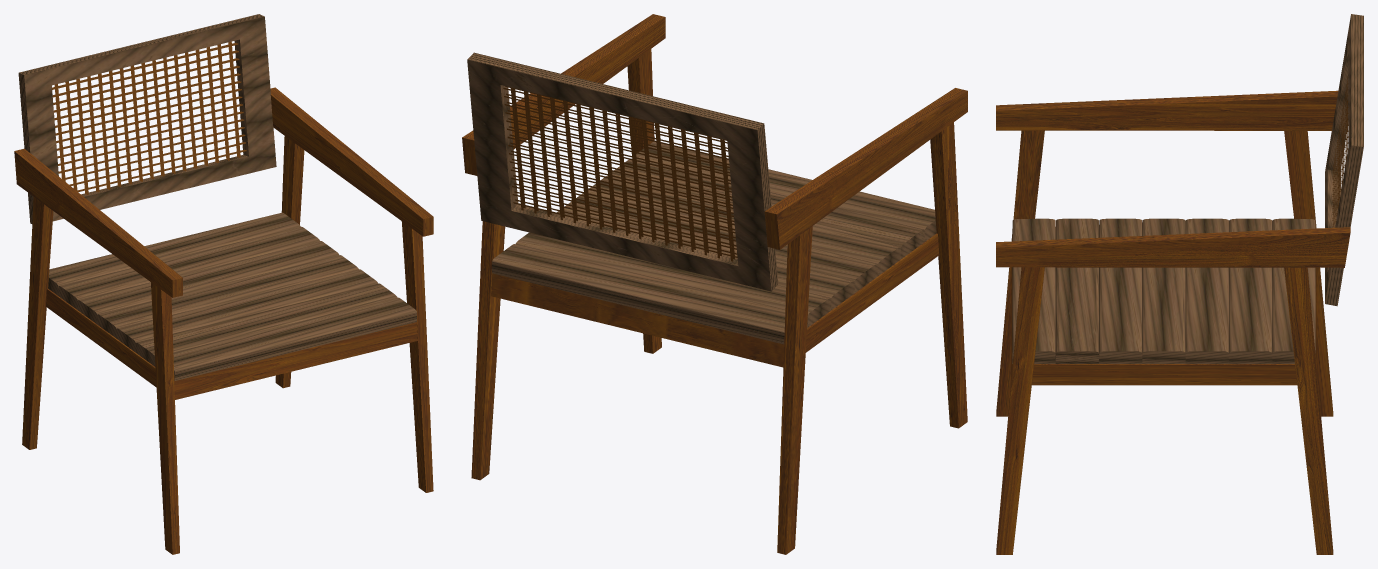
The model's file is Altha-Chair.glb.
3 renders of one model, left to right at view 1: azimuth 30°, elevation 25°; view 2: azimuth 150°, elevation 25°; view 3: azimuth 270°, elevation 25°, orthographic. The views are drawn at different scales.
Visible parts, largest first — view 1: Cube.005, Cube.002, Cube.006, Cube.008, Cube.003, Cube.004; view 2: Cube.005, Cube.006, Cube.002, Cube.008, Cube.003, Cube.004; view 3: Cube.005, Cube.003, Cube.002, Cube.006, Cube.004, Cube.008.
Boxes of the visible parts, x1,y1,x2,y2 form: Cube.005: (48, 212, 416, 380); Cube.002: (22, 136, 433, 554); Cube.006: (18, 14, 276, 223); Cube.008: (52, 41, 246, 194); Cube.003: (14, 87, 433, 297); Cube.004: (46, 288, 417, 399); Cube.005: (492, 141, 936, 344); Cube.006: (467, 52, 778, 291); Cube.002: (471, 49, 967, 554); Cube.008: (503, 86, 737, 261); Cube.003: (462, 14, 967, 249); Cube.004: (491, 233, 939, 367); Cube.005: (1012, 218, 1315, 363); Cube.003: (996, 90, 1350, 267); Cube.002: (996, 130, 1333, 554); Cube.006: (1325, 14, 1363, 306); Cube.004: (1011, 267, 1316, 385); Cube.008: (1332, 76, 1348, 227).
Size of the model in its own units: 0.5501 by 0.727 by 0.5997.
Materials: 2 (2 with a texture image).
